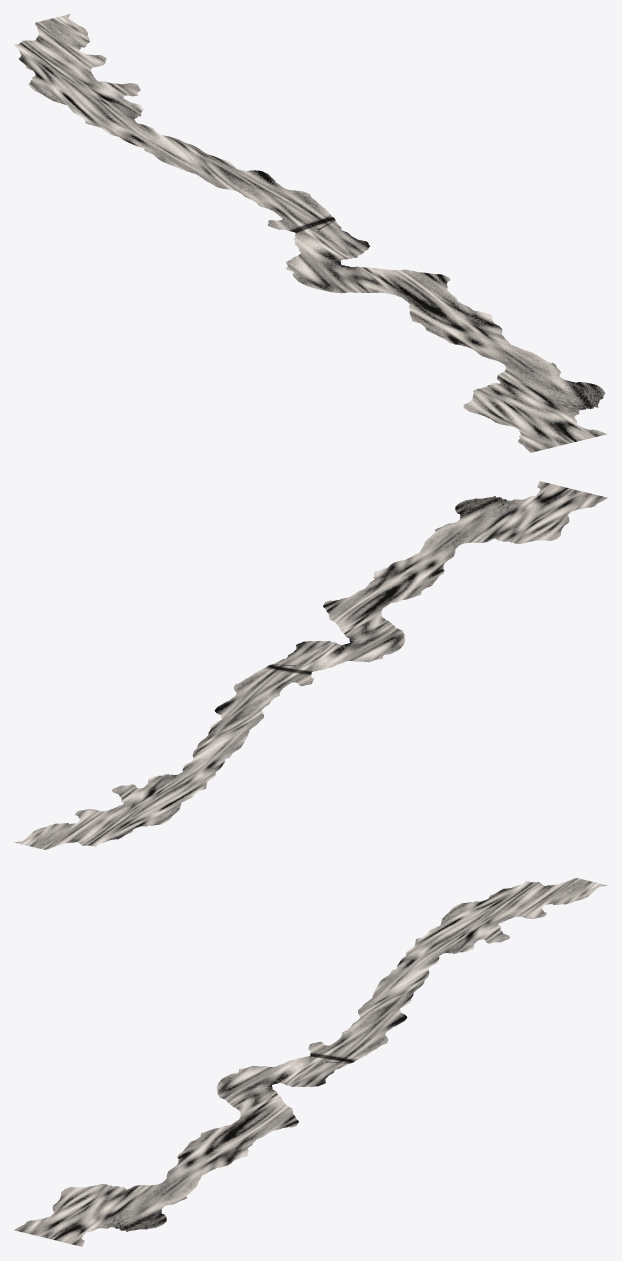
File: river.glb
3 views of the same model, one above another, from view 1: azimuth 30°, elevation 25°; view 2: azimuth 150°, elevation 25°; view 3: azimuth 330°, elevation 25° (orthographic). The views are drawn at different scales.
Visible parts, largest first — view 1: RIVER; view 2: RIVER; view 3: RIVER.
Boxes of the visible parts, x1,y1,x2,y2 form: RIVER: [14, 14, 607, 452]; RIVER: [14, 481, 607, 849]; RIVER: [14, 878, 607, 1246].
Bounding box in the file's own units: 76.46 × 0 × 604.
Materials: 1 (1 with a texture image).
